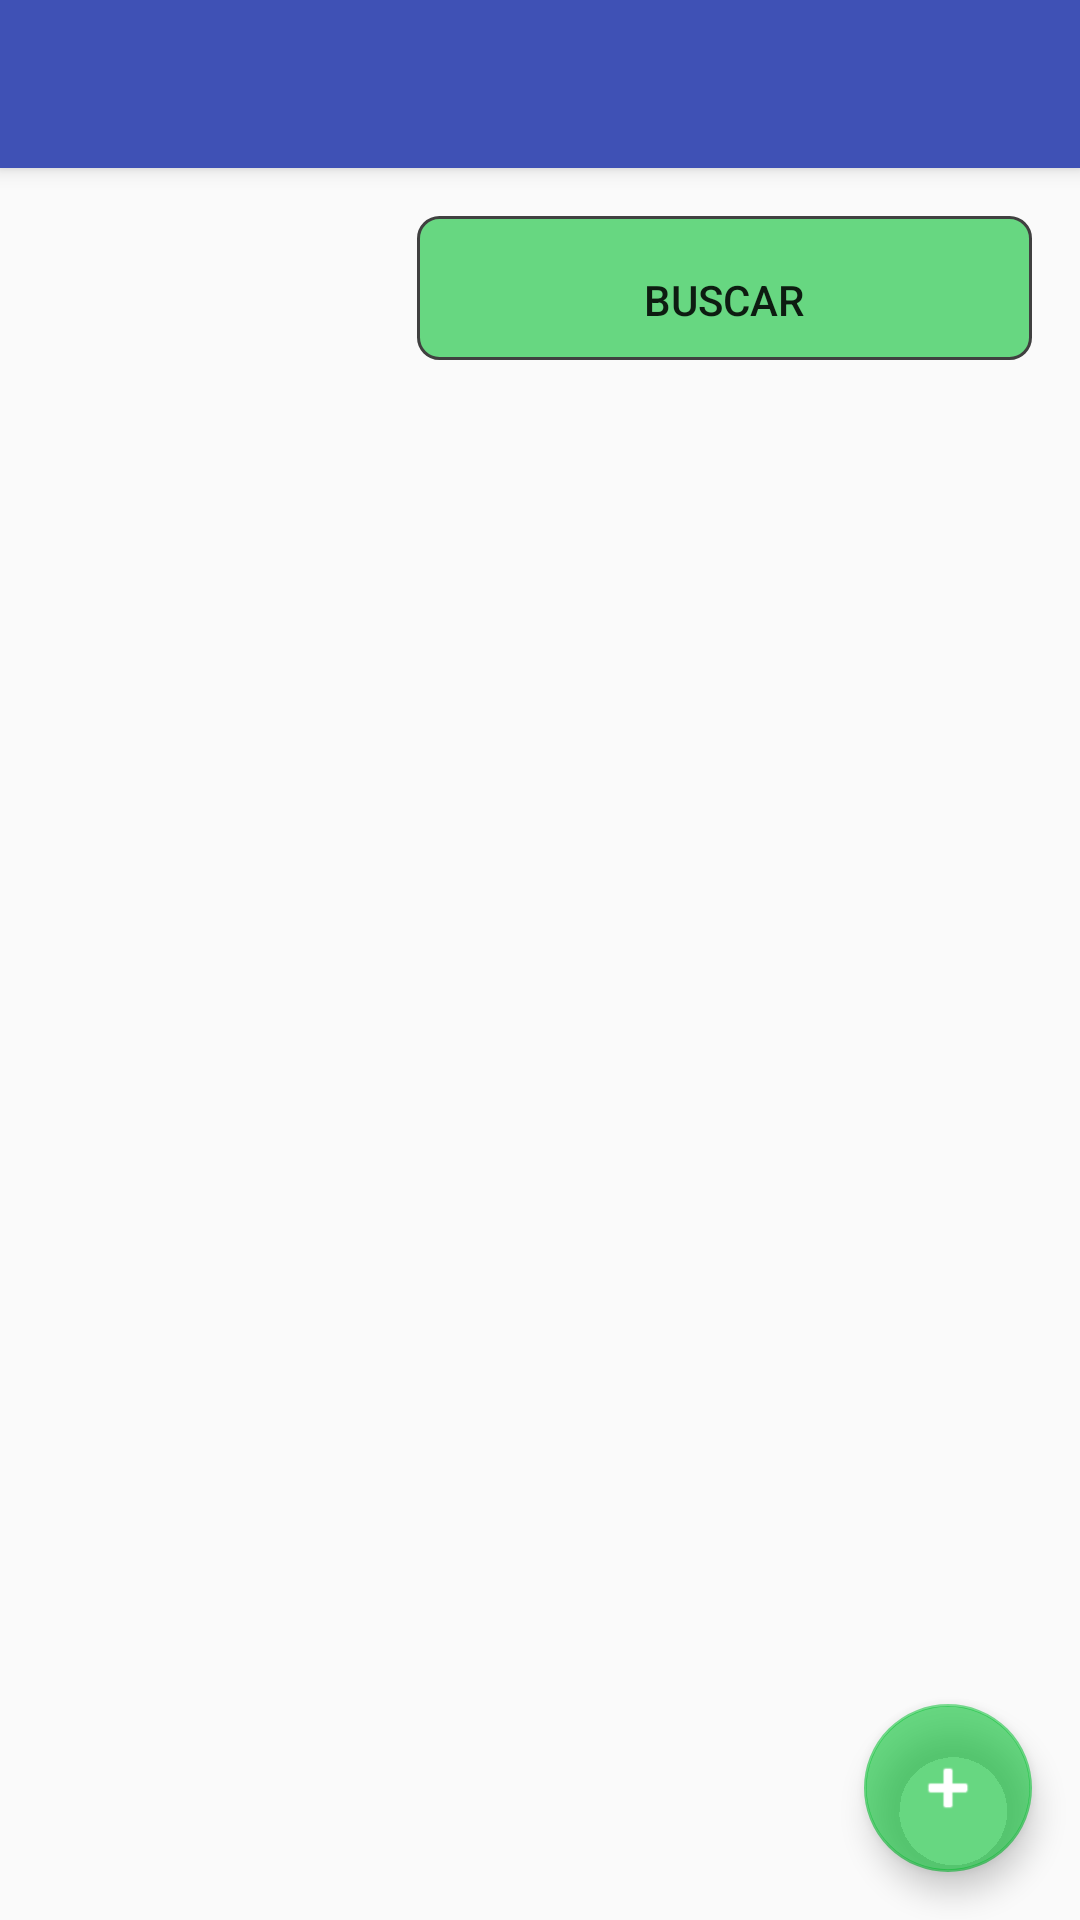

Icon click points for this 1080 x 1920 phone screenshot, format (x=x, y=y):
Añadir Amigo: (x=948, y=1788)
